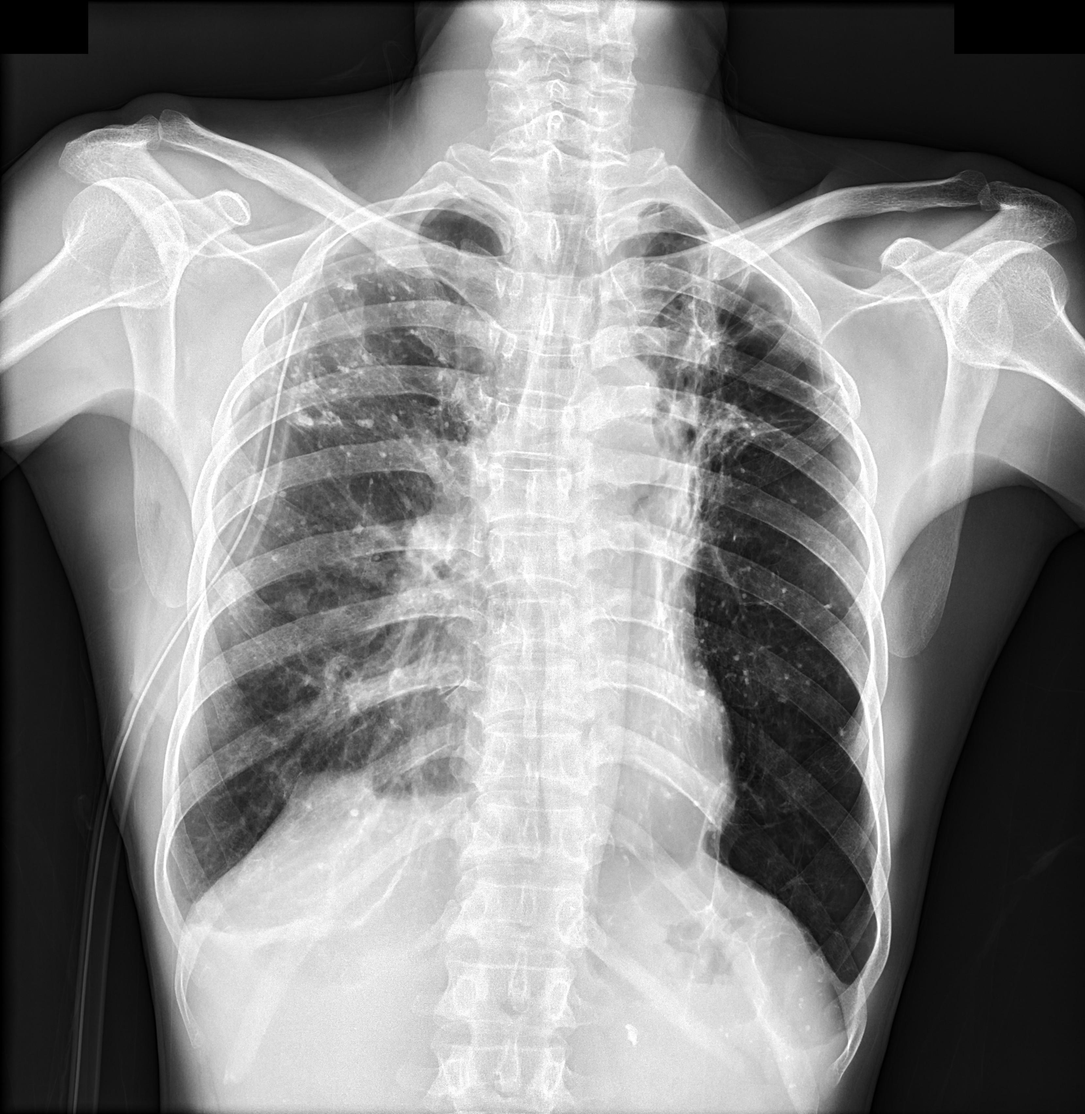Pleural thickening: (816, 951, 870, 1003), (161, 884, 210, 933)
Pulmonary fibrosis: (252, 264, 477, 568), (654, 231, 839, 580), (690, 782, 726, 868)
